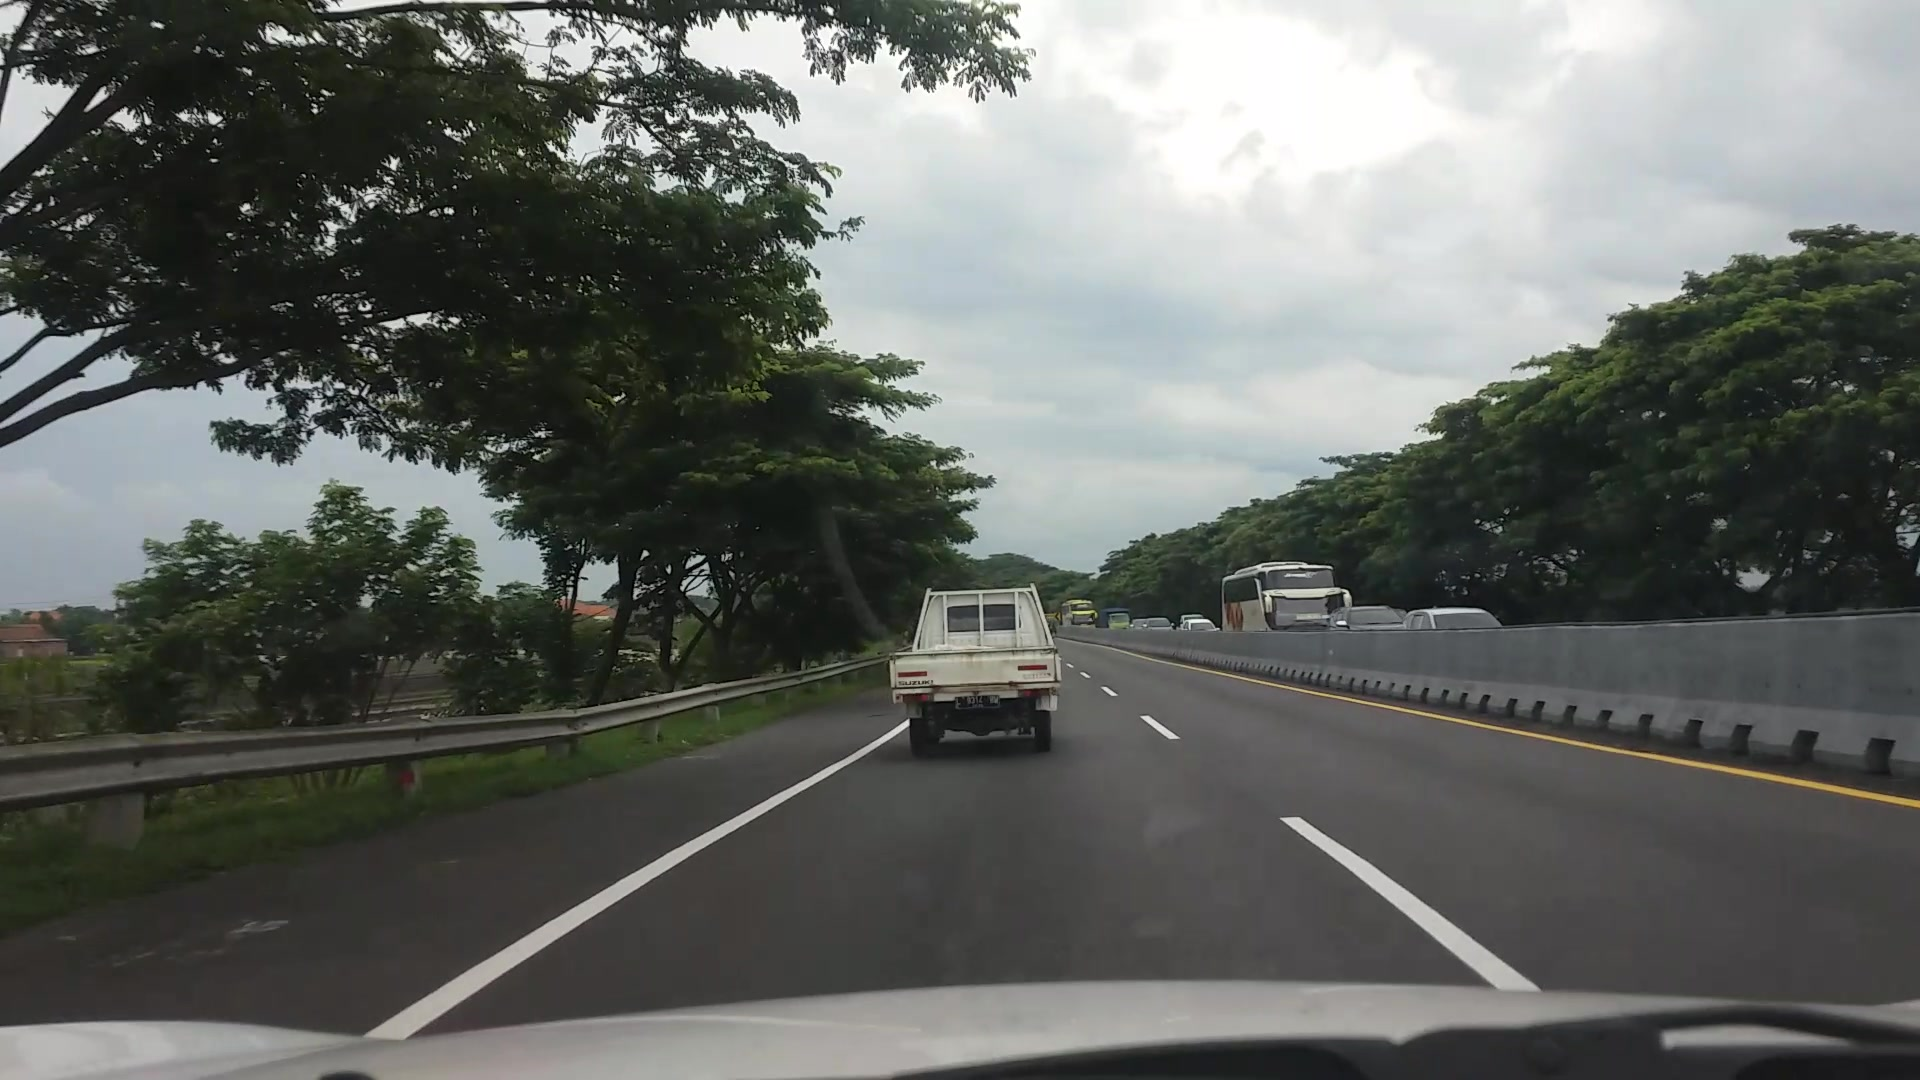plate_positive: (953, 695, 1000, 709)
